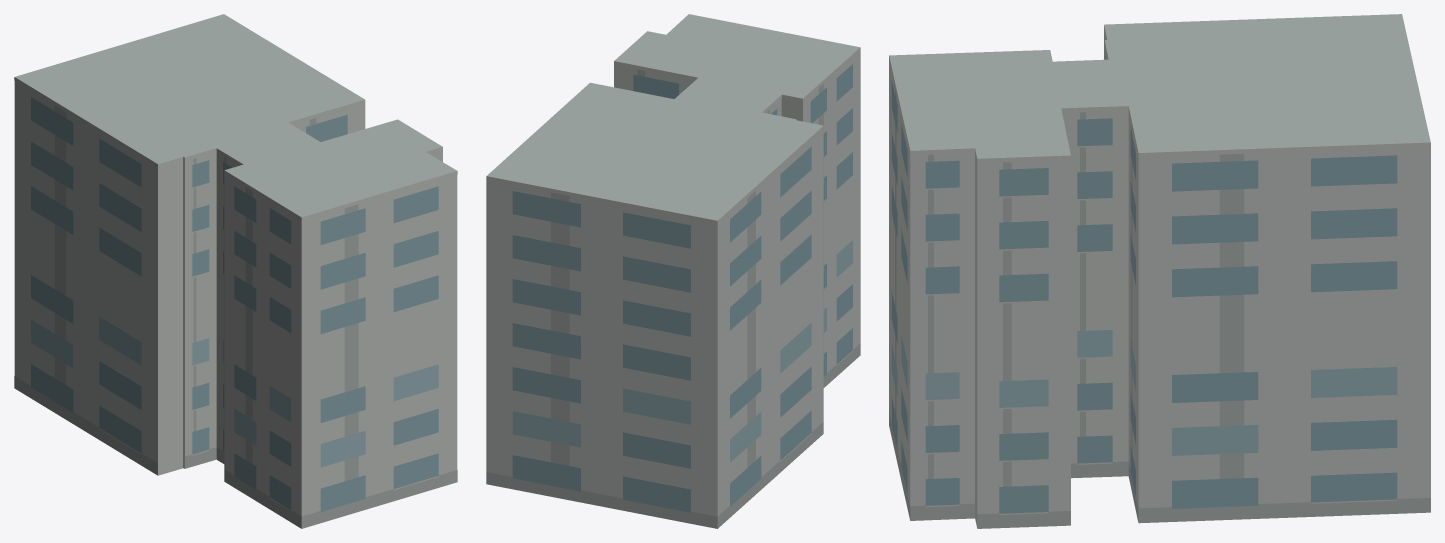
The model's file is survey-upis-32663615.glb.
The picture shows the model from 3 angles, left to right: view 1: azimuth 30°, elevation 25°; view 2: azimuth 150°, elevation 25°; view 3: azimuth 270°, elevation 25°; orthographic projection. The views are drawn at different scales.
Visible parts, largest first — view 1: survey-upis-32663615.tmp; view 2: survey-upis-32663615.tmp; view 3: survey-upis-32663615.tmp.
Part boxes in pixels (x1=…): survey-upis-32663615.tmp: x1=14, y1=14, x2=457, y2=528; survey-upis-32663615.tmp: x1=486, y1=14, x2=860, y2=528; survey-upis-32663615.tmp: x1=889, y1=14, x2=1430, y2=528.
Bounding box in the file's own units: 16.66 × 19.84 × 26.33.
